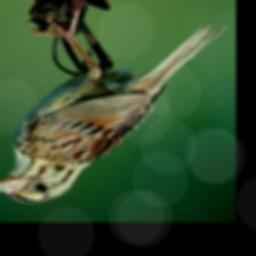Sparrow: (0, 9, 229, 206)
